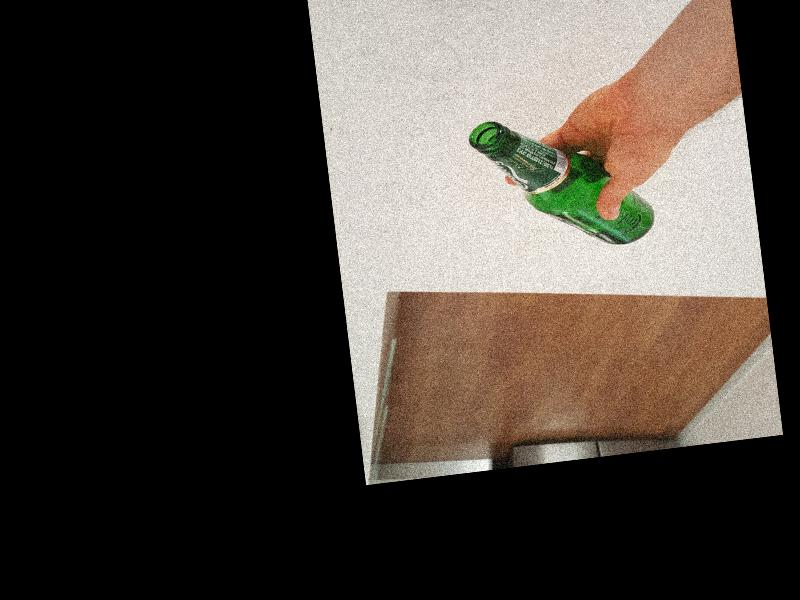Beer: (465, 101, 655, 260)
